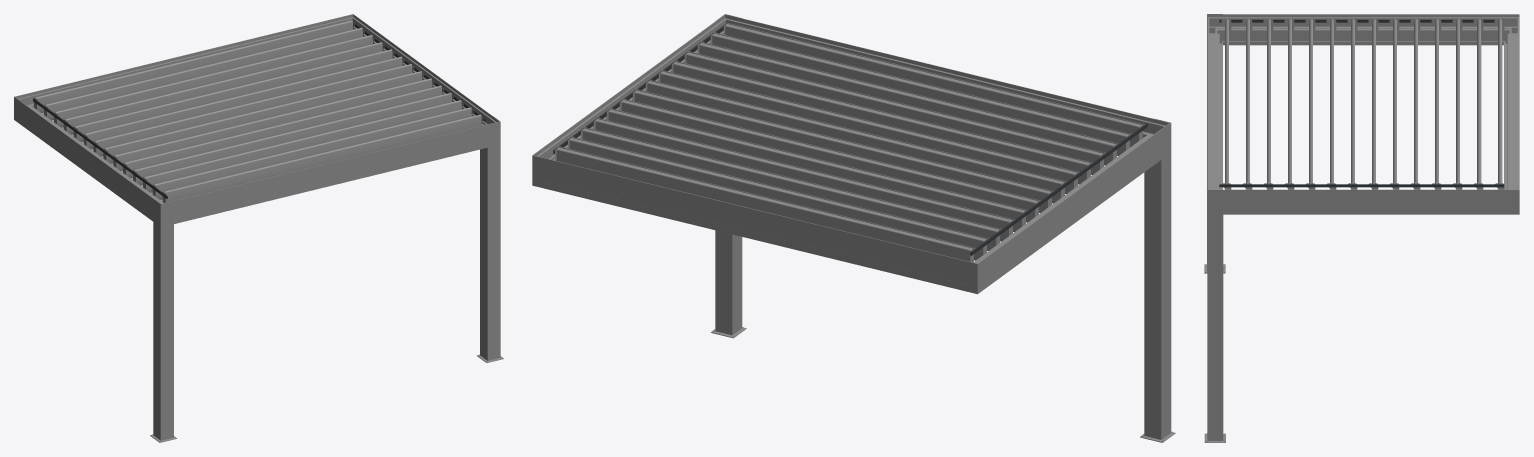
3 renders of one model, left to right at view 1: azimuth 30°, elevation 25°; view 2: azimuth 150°, elevation 25°; view 3: azimuth 270°, elevation 25°, orthographic. The views are drawn at different scales.
Parts seen in each view (by area): view 1: caleira, Pilar 1, Pilar 2, Shape366, Shape372, Shape373, Shape375, Shape374, Shape379, Shape376, Shape367, Shape378 (+7 smaller); view 2: caleira, Pilar 1, Shape379, Shape370, Shape376, Shape366, Shape375, Shape373, Shape368, Shape367, Shape378, Shape377 (+7 smaller); view 3: caleira, Pilar 2, Line001, Box002, Shape379, Shape378, Shape377, Shape376, Shape375, Shape374, Shape373, Shape372 (+7 smaller).
Part boxes in pixels (bbox=[...]): caleira: bbox=[14, 14, 499, 223]; Pilar 1: bbox=[153, 199, 173, 440]; Pilar 2: bbox=[480, 116, 500, 360]; Shape366: bbox=[164, 114, 481, 202]; Shape372: bbox=[105, 71, 422, 164]; Shape373: bbox=[95, 64, 412, 157]; Shape375: bbox=[75, 49, 392, 143]; Shape374: bbox=[85, 56, 402, 150]; Shape379: bbox=[36, 20, 353, 114]; Shape376: bbox=[65, 42, 382, 136]; Shape367: bbox=[154, 107, 471, 201]; Shape378: bbox=[46, 27, 362, 121]; caleira: bbox=[532, 14, 1170, 294]; Pilar 1: bbox=[1144, 118, 1171, 439]; Shape379: bbox=[556, 146, 973, 261]; Shape370: bbox=[673, 60, 1090, 184]; Shape376: bbox=[595, 117, 1012, 241]; Shape366: bbox=[725, 22, 1142, 146]; Shape375: bbox=[608, 108, 1025, 231]; Shape373: bbox=[634, 89, 1051, 212]; Shape368: bbox=[699, 41, 1116, 165]; Shape367: bbox=[712, 32, 1129, 155]; Shape378: bbox=[569, 136, 986, 260]; Shape377: bbox=[582, 127, 999, 250]; caleira: bbox=[1207, 14, 1519, 214]; Pilar 2: bbox=[1207, 190, 1223, 440]; Line001: bbox=[1215, 28, 1511, 36]; Box002: bbox=[1219, 184, 1504, 187]; Shape379: bbox=[1498, 18, 1502, 183]; Shape378: bbox=[1477, 18, 1481, 183]; Shape377: bbox=[1456, 18, 1459, 183]; Shape376: bbox=[1435, 18, 1438, 183]; Shape375: bbox=[1414, 18, 1417, 183]; Shape374: bbox=[1393, 18, 1396, 183]; Shape373: bbox=[1372, 18, 1375, 183]; Shape372: bbox=[1351, 18, 1354, 183].
Size of the model in its own units: 406 by 270 by 303.
3 materials, 1 textured.
